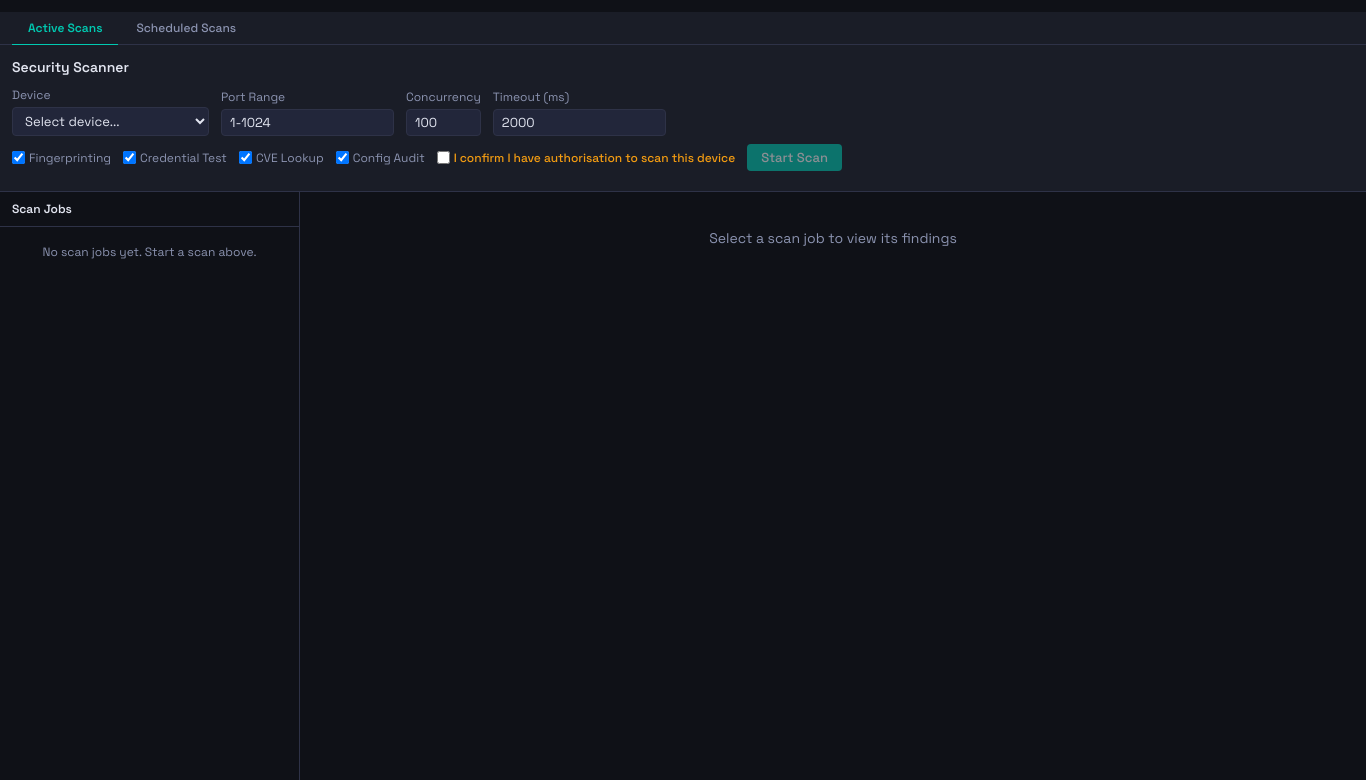
Test: ScannerPanel › Start Scan button enables after device selection and consent
The width and height of the screenshot is (1366, 780).
Select "Camera A (192.168.1.10)" in the dropdown. click: (110, 122)
box: [12,107,209,136]
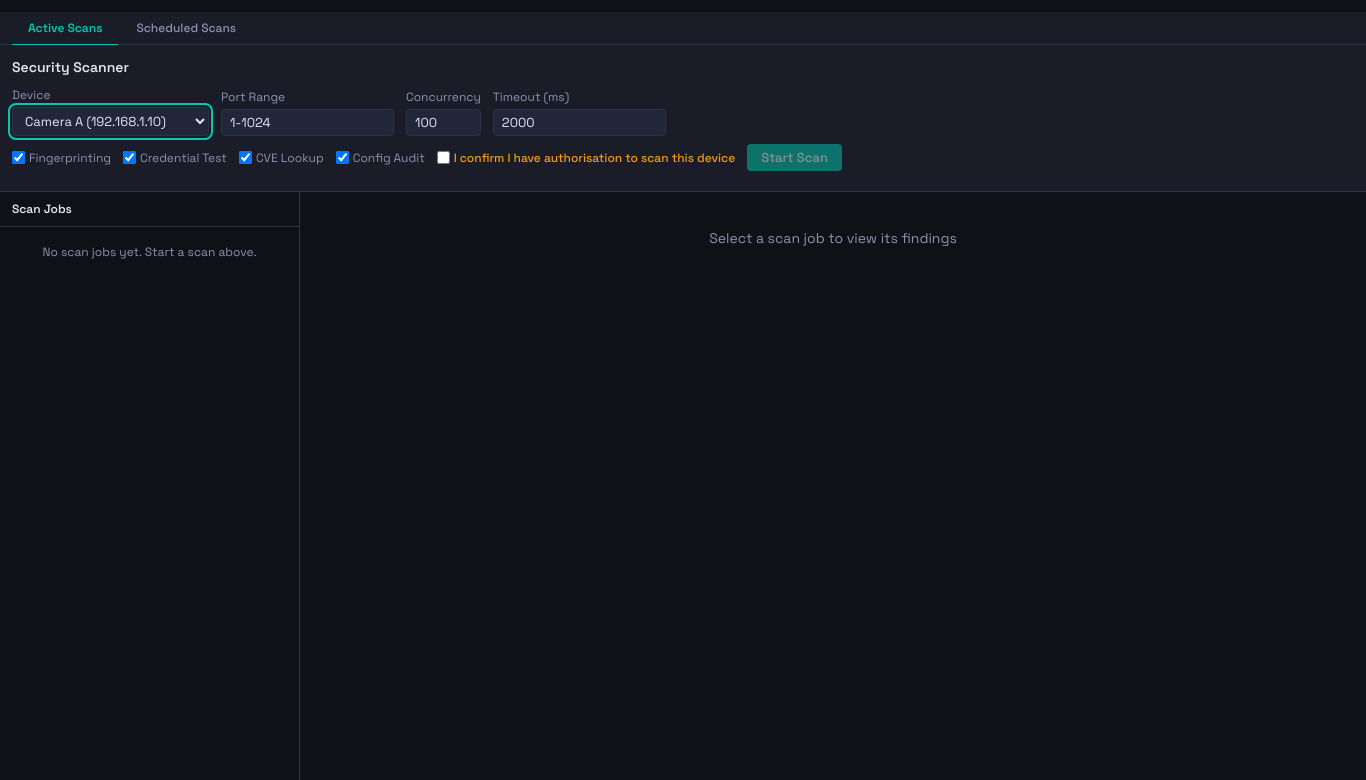
Click the checkbox labelled "I confirm I have authorisation to scan this device". click: (443, 158)
box: [437,151,450,164]
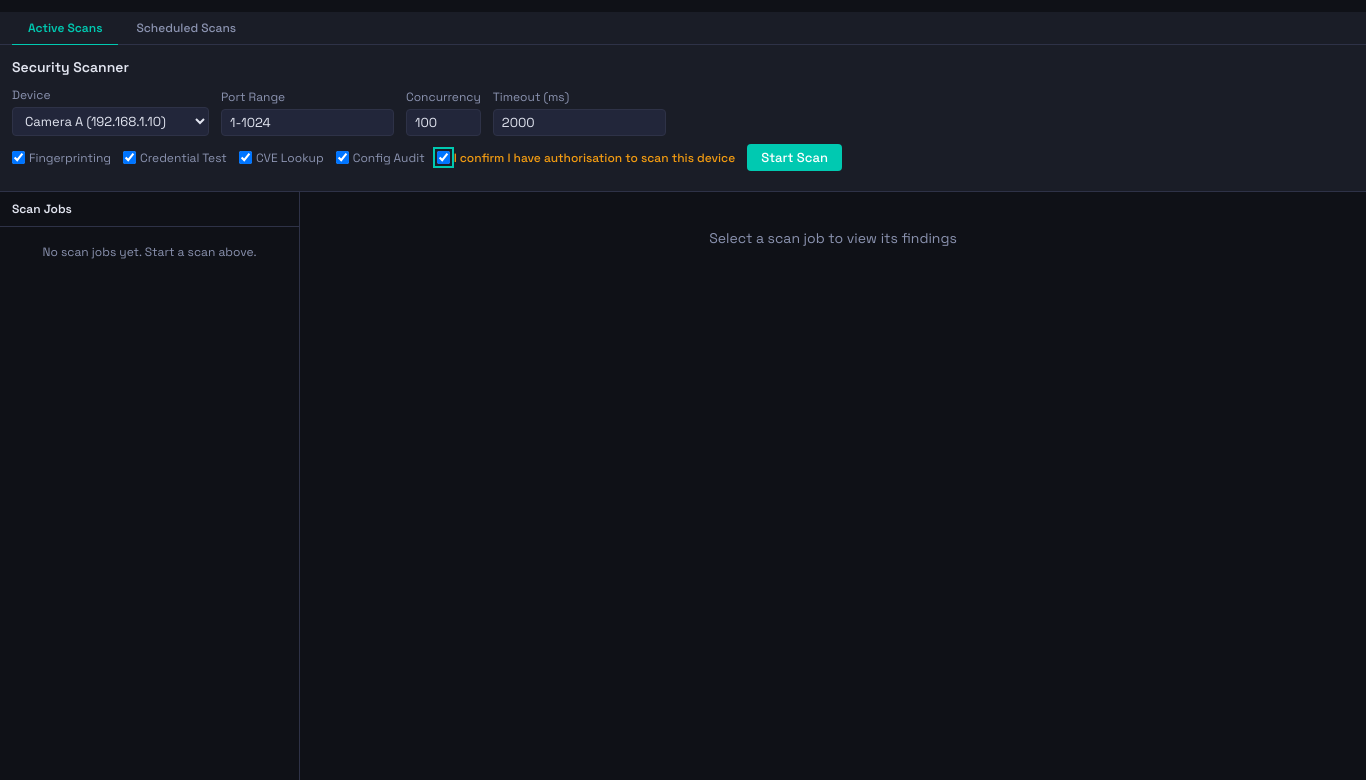
expect the button "Start Scan" is enabled: met, box [747,144,842,171]
